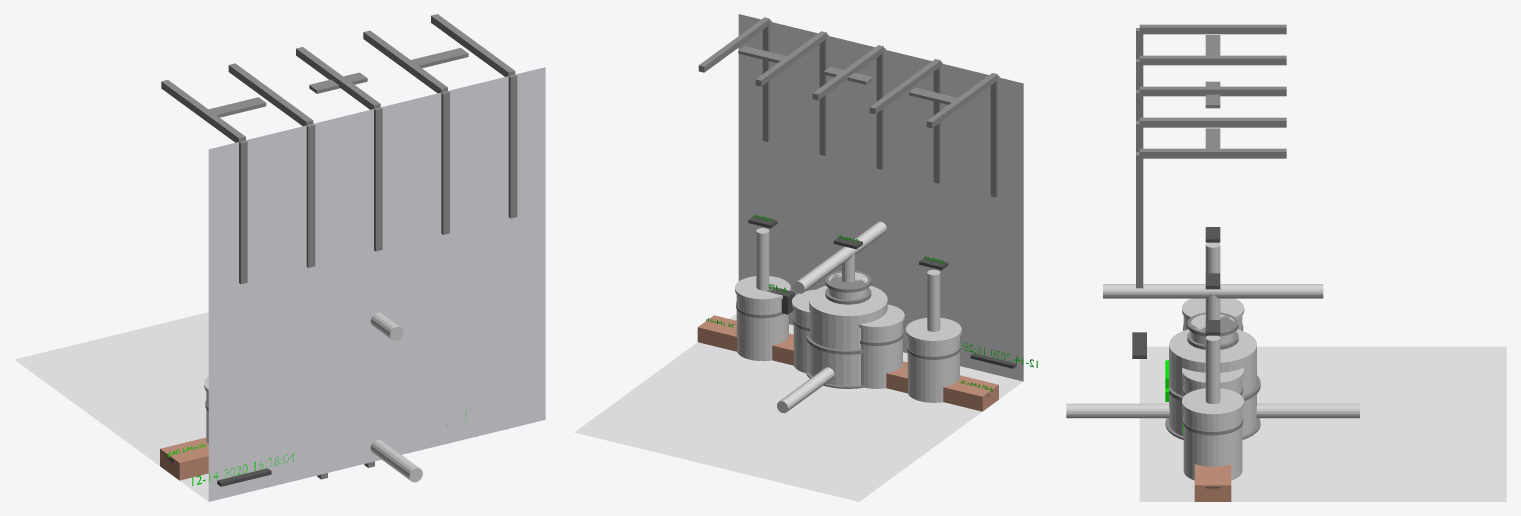
The model's file is ted.glb.
The picture shows the model from 3 angles, left to right: view 1: azimuth 30°, elevation 25°; view 2: azimuth 150°, elevation 25°; view 3: azimuth 270°, elevation 25°; orthographic projection. The views are drawn at different scales.
Visible parts, largest first — view 1: Back_Wall, Floor, Brick_Base, Beam_-2, Beam_4, Beam_-4, Beam_2, Beam_0, Cross_Beam_-2, Cross_Beam_2, Cross_Beam_-4, Cross_Beam_4 (+4 smaller); view 2: Back_Wall, Floor, Central_Tank_Body, Brick_Base, Tank_A, Tank_Product, Tank_B, Cylinder.009, Tank_A_Cap, Tank_Product_Cap, Beam_-4, Tank_Purge (+14 smaller); view 3: Floor, Central_Tank_Body, Cylinder, Cylinder.009, Tank_Product, Cross_Beam_4, Cross_Beam_-4, Cross_Beam_2, Cross_Beam_-2, Cross_Beam_0, Brick_Base, Tank_Product_Cap (+6 smaller).
Part boxes in pixels (bbox=[...]): Back_Wall: bbox=[208, 67, 545, 501]; Floor: bbox=[14, 312, 208, 501]; Brick_Base: bbox=[160, 437, 208, 480]; Beam_-2: bbox=[304, 124, 315, 267]; Beam_4: bbox=[506, 74, 517, 218]; Beam_-4: bbox=[237, 140, 247, 284]; Beam_2: bbox=[439, 91, 449, 234]; Beam_0: bbox=[372, 107, 382, 251]; Cross_Beam_-2: bbox=[228, 63, 313, 126]; Cross_Beam_2: bbox=[363, 30, 447, 93]; Cross_Beam_-4: bbox=[161, 80, 245, 142]; Cross_Beam_4: bbox=[431, 14, 515, 76]; Back_Wall: bbox=[738, 14, 1023, 381]; Floor: bbox=[574, 314, 1023, 501]; Central_Tank_Body: bbox=[809, 285, 887, 385]; Brick_Base: bbox=[697, 315, 998, 411]; Tank_A: bbox=[907, 336, 959, 402]; Tank_Product: bbox=[736, 295, 788, 361]; Tank_B: bbox=[861, 322, 902, 388]; Cylinder.009: bbox=[793, 221, 886, 293]; Tank_A_Cap: bbox=[906, 317, 961, 343]; Tank_Product_Cap: bbox=[735, 276, 790, 302]; Beam_-4: bbox=[990, 75, 999, 197]; Tank_Purge: bbox=[793, 309, 809, 373]; Floor: bbox=[1139, 346, 1506, 501]; Central_Tank_Body: bbox=[1169, 329, 1256, 436]; Cylinder: bbox=[1066, 403, 1359, 418]; Cylinder.009: bbox=[1103, 284, 1323, 298]; Tank_Product: bbox=[1183, 409, 1242, 480]; Cross_Beam_4: bbox=[1139, 148, 1286, 158]; Cross_Beam_-4: bbox=[1139, 24, 1286, 34]; Cross_Beam_2: bbox=[1139, 117, 1286, 127]; Cross_Beam_-2: bbox=[1139, 55, 1286, 65]; Cross_Beam_0: bbox=[1139, 86, 1286, 96]; Brick_Base: bbox=[1194, 464, 1231, 501]; Tank_Product_Cap: bbox=[1182, 388, 1244, 417].
Size of the model in its own units: 10.49 by 11.05 by 12.
